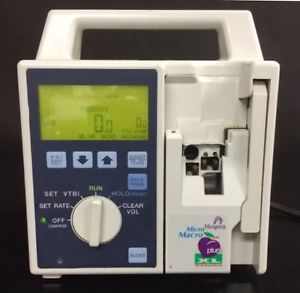plumxl1: (16, 5, 281, 278)
